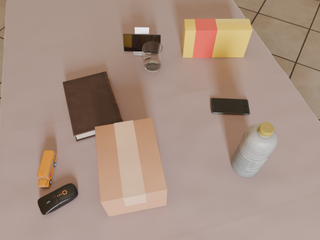book: (63, 71, 123, 141)
bottle: (231, 122, 278, 177)
box: (95, 118, 167, 216), (182, 19, 252, 58)
cup: (142, 41, 162, 72)
mouse: (38, 183, 78, 215)
phone: (211, 98, 250, 115), (123, 34, 161, 51)
toy_car: (37, 151, 57, 188)
